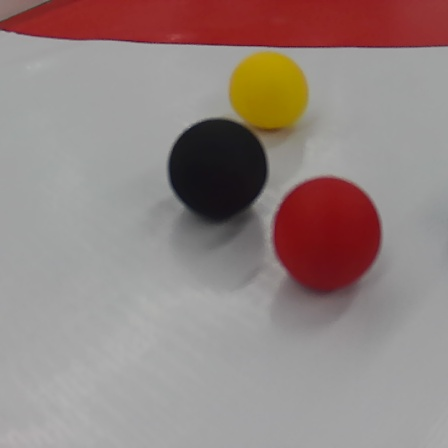black: (164, 115, 270, 224)
red: (268, 173, 385, 291)
red_base: (2, 1, 446, 46)
yellow: (231, 52, 306, 131)
